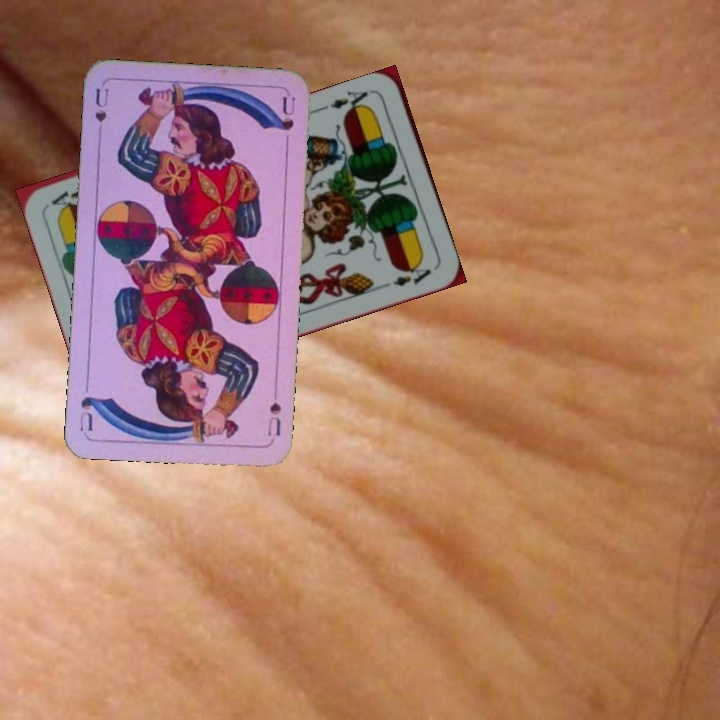EA: (319, 85, 377, 117)
SU: (263, 383, 284, 439), (91, 84, 111, 125)
